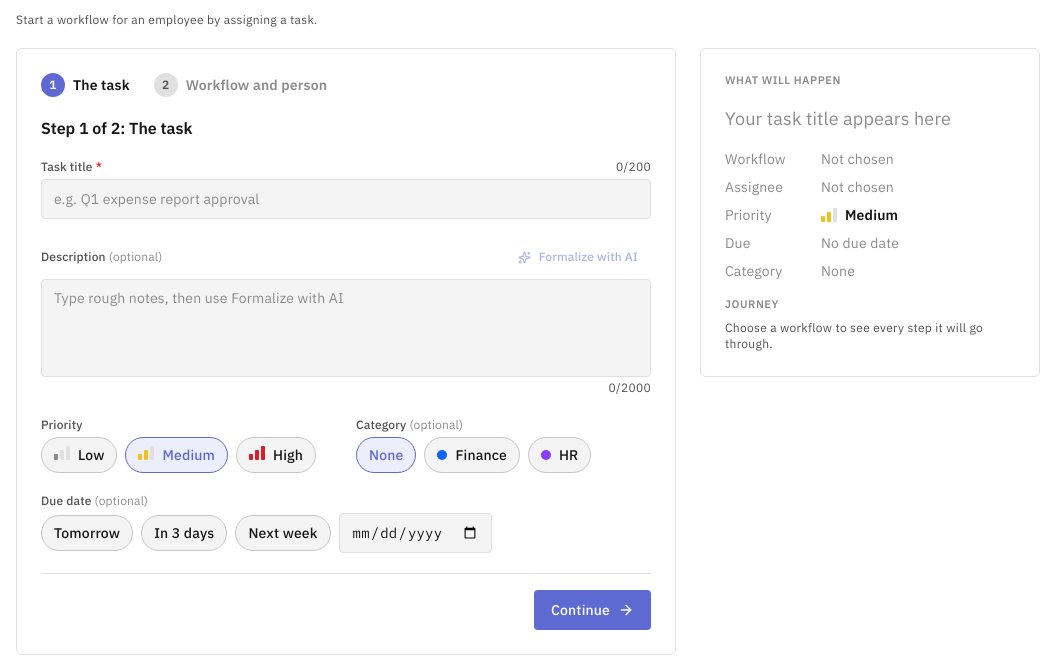
Test: TaskAssign: steps and validation › only lists Active workflows
Expected: the heading "Step 1 of 2: The task" is shown, [41,118,192,138]
In the field labelled "Task title *": coordinates (346, 199) [41,179,651,219], type "Q1 expense report"
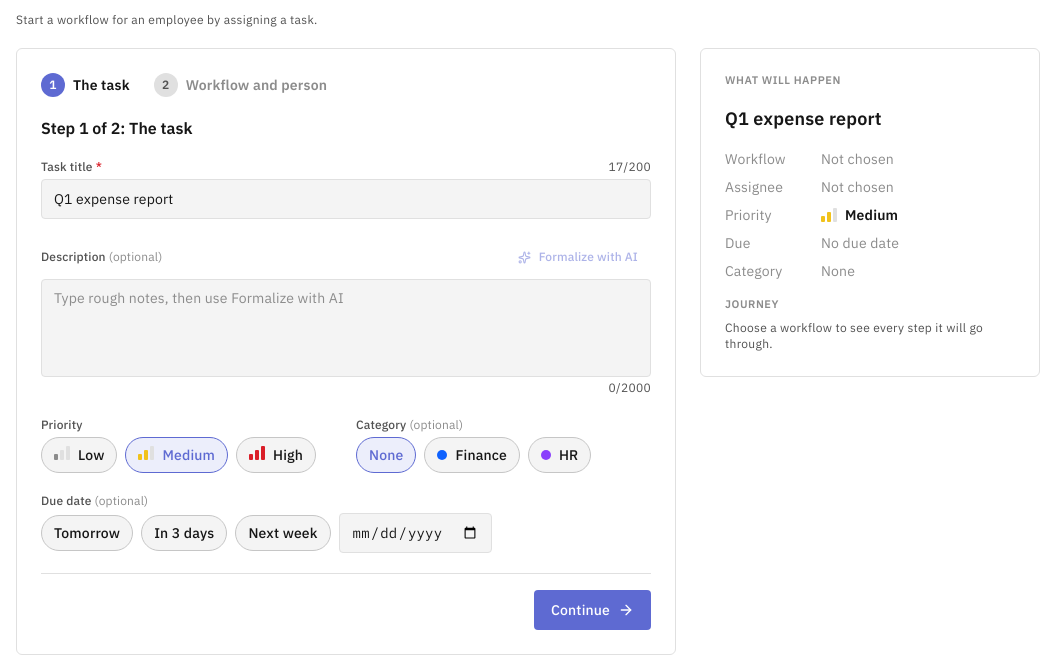
Click the button "Continue": coordinates (592, 610) [534,590,651,630]
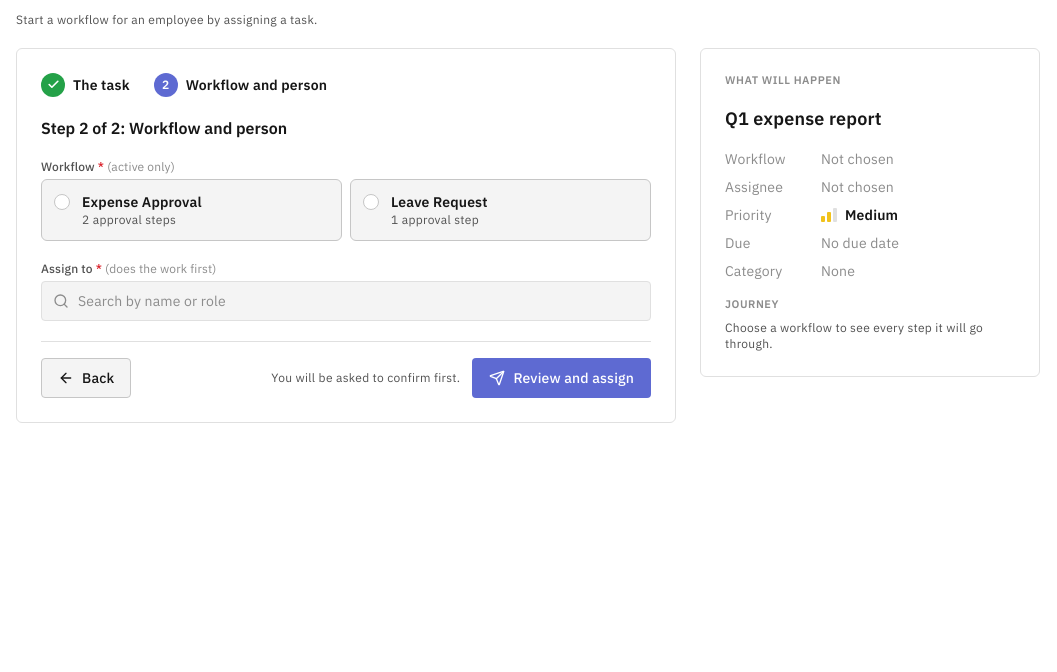
Expected: the heading "Step 2 of 2: Workflow and person" is shown, [41,118,287,138]
Expected: the radio buttons labelled "approval step" read "Expense Approval2 approval steps", "Leave Request1 approval step", in this order, [41,179,342,241]; [350,179,651,241]
